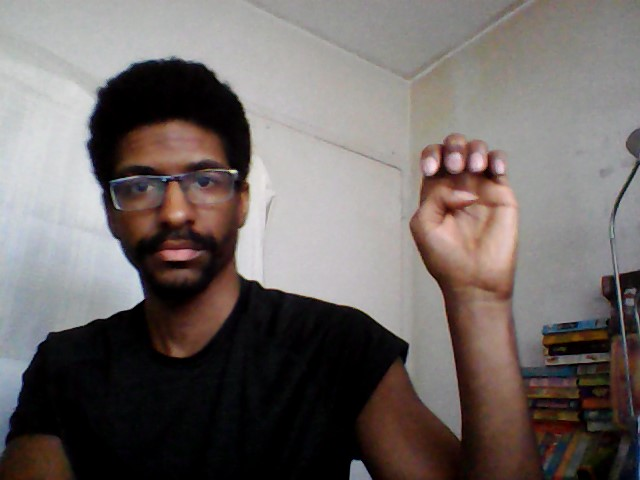e: (404, 130, 526, 303)
